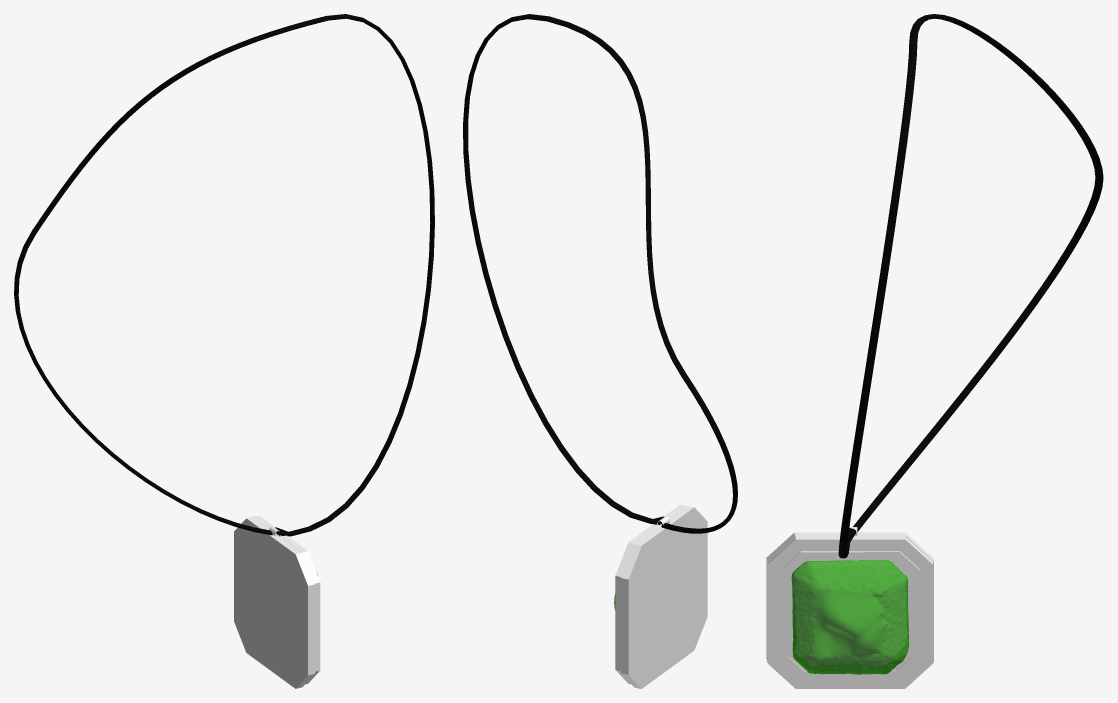
Rendered from necklace3.glb.
The picture shows the model from 3 angles, left to right: view 1: azimuth 30°, elevation 25°; view 2: azimuth 150°, elevation 25°; view 3: azimuth 270°, elevation 25°; orthographic projection. The views are drawn at different scales.
Parts seen in each view (by area): view 1: basemetal, rope.003, doorgreen; view 2: basemetal, rope.003, doorgreen; view 3: doorgreen, rope.003, basemetal.
Boxes of the visible parts, x1,y1,x2,y2 form: basemetal: (234,516,314,688); rope.003: (14,14,434,536); doorgreen: (253,515,320,684); basemetal: (621,506,707,688); rope.003: (463,14,737,533); doorgreen: (614,504,685,684); doorgreen: (768,536,932,688); rope.003: (838,14,1103,558); basemetal: (766,527,933,662).
Size of the model in its own units: 0.2663 by 0.4732 by 0.2095.
